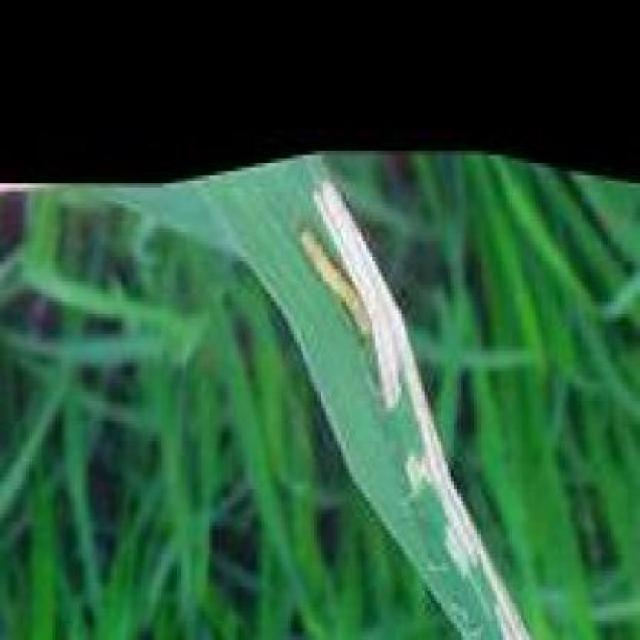leaf-folder: (272, 227, 377, 364)
